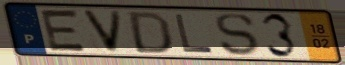3: (258, 12, 300, 60)
D: (127, 10, 174, 56)
E: (38, 8, 90, 54)
L: (172, 12, 216, 54)
S: (213, 12, 261, 58)
V: (79, 8, 125, 55)
